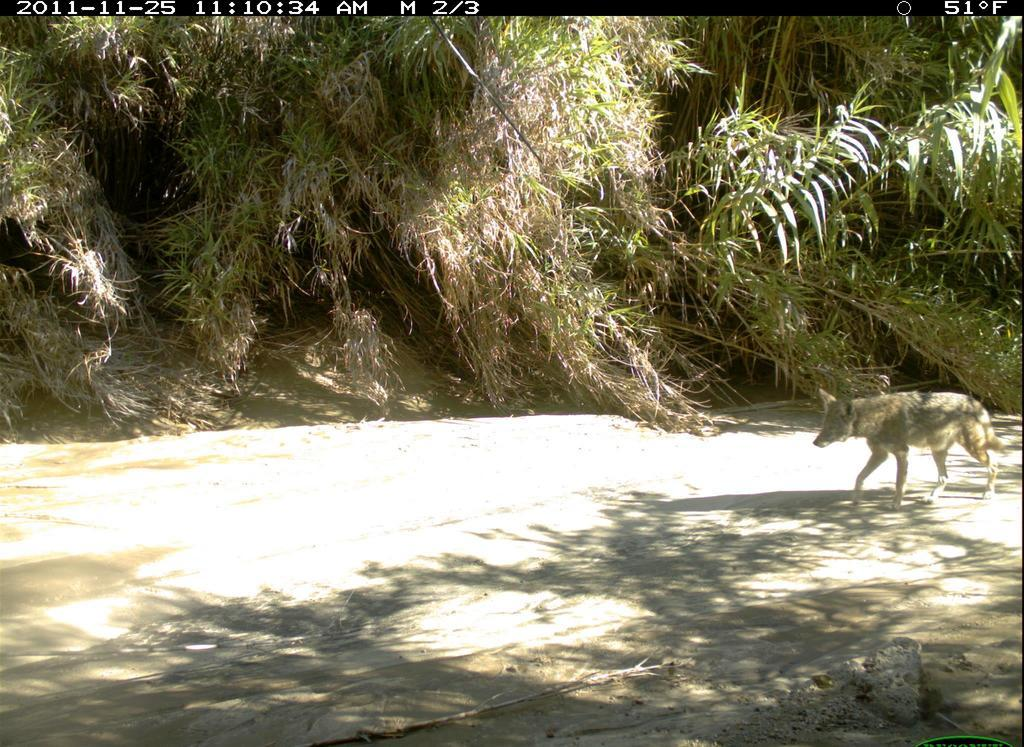coyote: (803, 376, 1014, 518)
